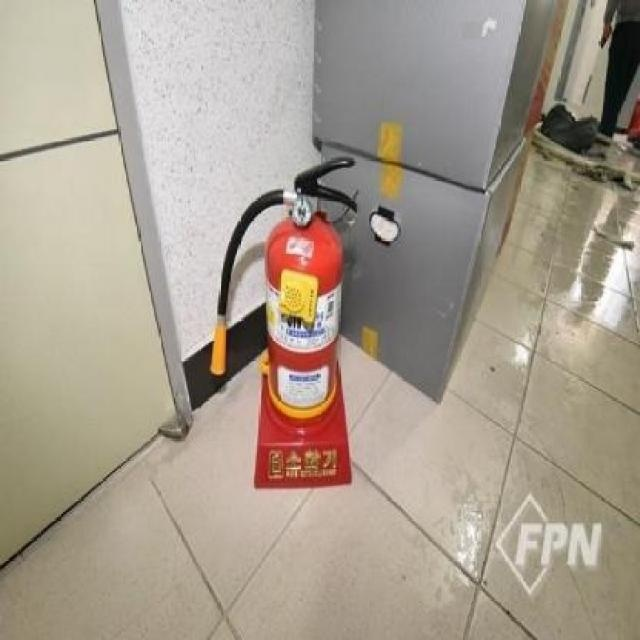fire extinguisher: (209, 155, 360, 427)
